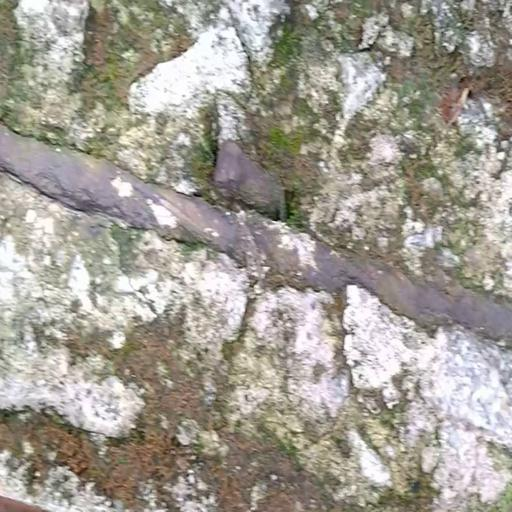spalling: (5, 9, 512, 512)
